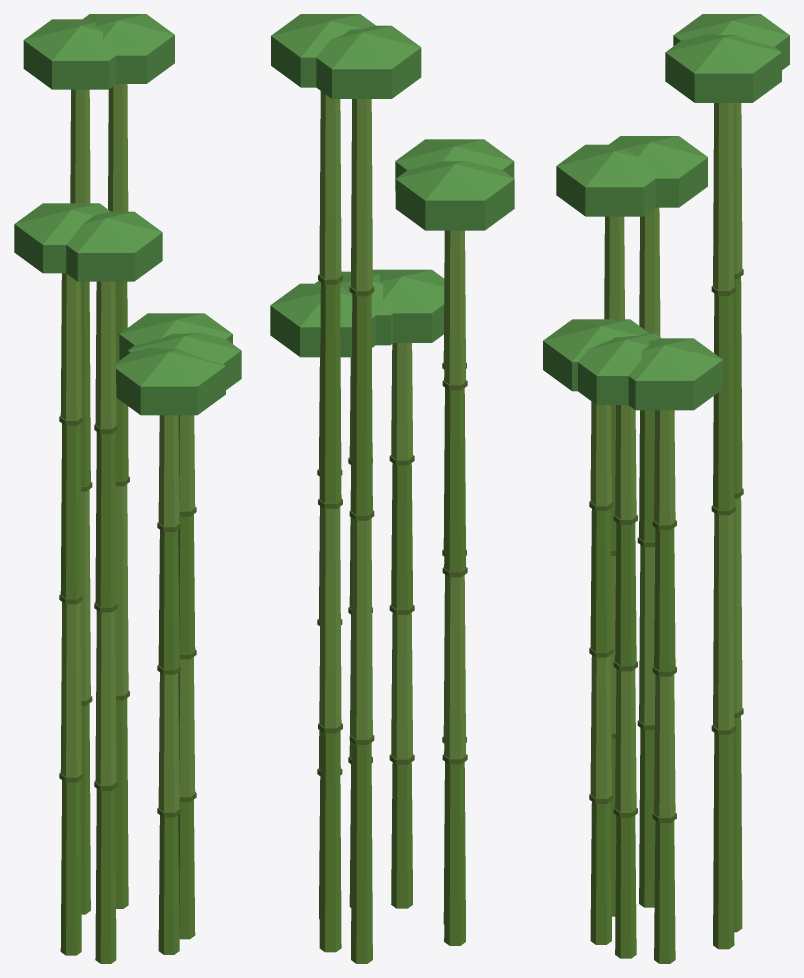
File: bamboo_cluster.glb
3 renders of one model, left to right at view 1: azimuth 30°, elevation 25°; view 2: azimuth 150°, elevation 25°; view 3: azimuth 270°, elevation 25°, orthographic. The views are drawn at different scales.
Parts seen in each view (by area): view 1: bamboo_cluster; view 2: bamboo_cluster; view 3: bamboo_cluster.
Part boxes in pixels (x1,y1,x2,y2): bamboo_cluster: (14,14,241,963); bamboo_cluster: (270,14,514,963); bamboo_cluster: (543,14,789,963).
Size of the model in its own units: 0.8687 by 3.72 by 0.9174.
